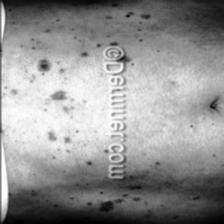Non-Cancerous Skin Condition: (48, 92, 68, 100), (100, 202, 114, 211), (38, 61, 48, 72), (116, 55, 128, 62), (48, 132, 56, 140), (140, 14, 150, 18)
